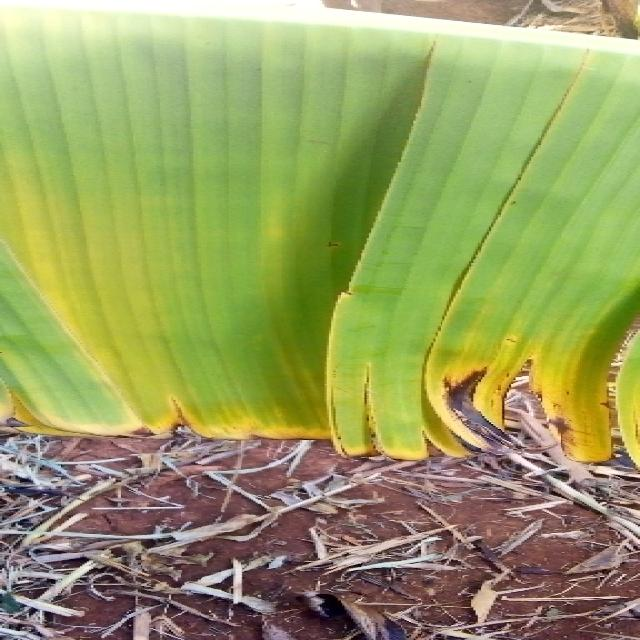Cordana: (0, 0, 632, 477)
